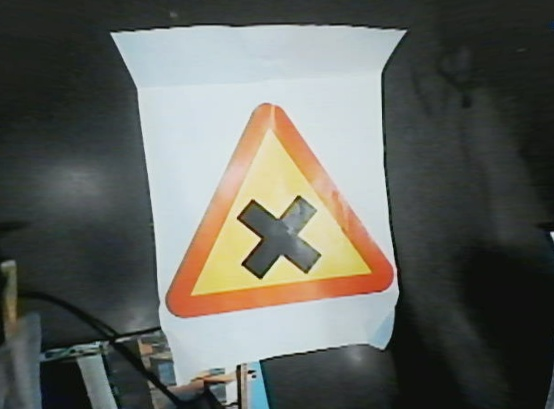junction: (127, 95, 407, 309)
